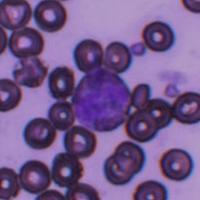E: (73, 67, 130, 131)
